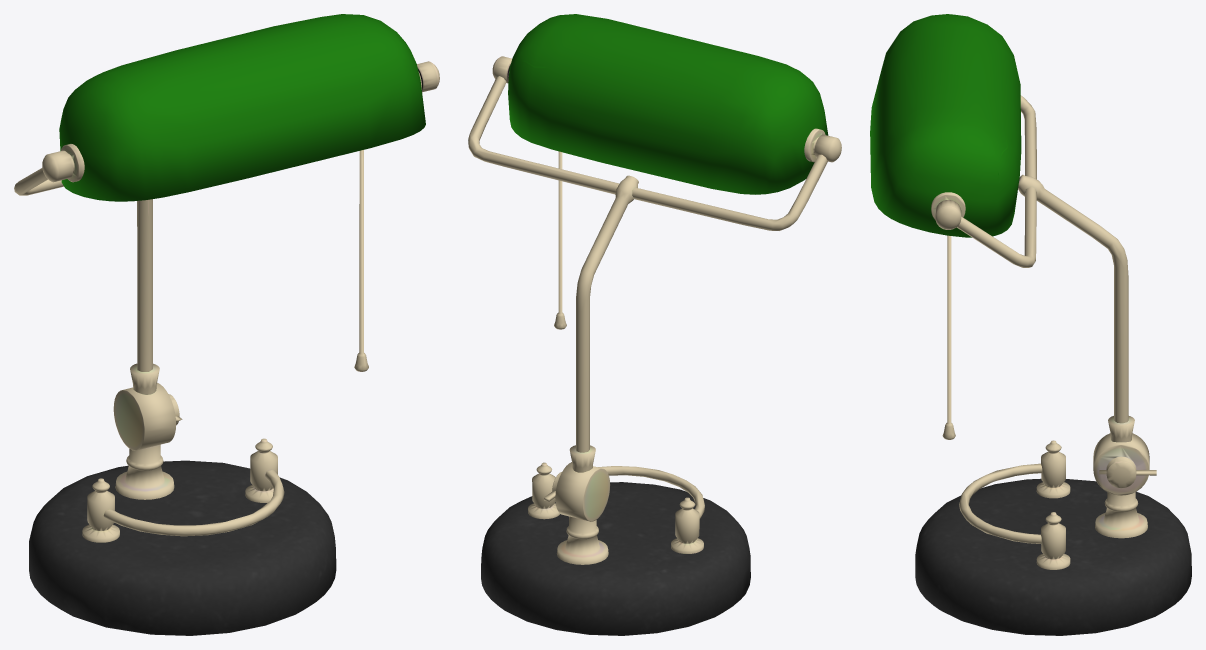
The model's file is st_bankers_lamp.gltf.
3 renders of one model, left to right at view 1: azimuth 30°, elevation 25°; view 2: azimuth 150°, elevation 25°; view 3: azimuth 270°, elevation 25°, orthographic. The views are drawn at different scales.
Parts seen in each view (by area): view 1: vintage_desk_lamp.006, vintage_desk_lamp.007, vintage_desk_lamp.011, vintage_desk_lamp.008, vintage_desk_lamp.001, vintage_desk_lamp.009, vintage_desk_lamp.010, vintage_desk_lamp.003, vintage_desk_lamp.004, vintage_desk_lamp.002, vintage_desk_lamp.012; view 2: vintage_desk_lamp.006, vintage_desk_lamp.007, vintage_desk_lamp.002, vintage_desk_lamp.001, vintage_desk_lamp.011, vintage_desk_lamp.008, vintage_desk_lamp.010, vintage_desk_lamp.003, vintage_desk_lamp.009, vintage_desk_lamp.004, vintage_desk_lamp.012; view 3: vintage_desk_lamp.007, vintage_desk_lamp.006, vintage_desk_lamp.001, vintage_desk_lamp.002, vintage_desk_lamp.011, vintage_desk_lamp.008, vintage_desk_lamp.009, vintage_desk_lamp.010, vintage_desk_lamp.004, vintage_desk_lamp.003, vintage_desk_lamp.012.
Boxes of the visible parts, bbox=[...] form: vintage_desk_lamp.006: bbox=[59, 14, 425, 201]; vintage_desk_lamp.007: bbox=[29, 460, 336, 635]; vintage_desk_lamp.011: bbox=[113, 382, 179, 450]; vintage_desk_lamp.008: bbox=[82, 438, 277, 542]; vintage_desk_lamp.001: bbox=[137, 199, 152, 371]; vintage_desk_lamp.009: bbox=[103, 469, 284, 536]; vintage_desk_lamp.010: bbox=[115, 444, 174, 499]; vintage_desk_lamp.003: bbox=[42, 61, 439, 182]; vintage_desk_lamp.004: bbox=[354, 150, 368, 371]; vintage_desk_lamp.002: bbox=[14, 168, 63, 195]; vintage_desk_lamp.012: bbox=[130, 363, 159, 394]; vintage_desk_lamp.006: bbox=[508, 14, 828, 194]; vintage_desk_lamp.007: bbox=[481, 482, 750, 635]; vintage_desk_lamp.002: bbox=[468, 76, 827, 230]; vintage_desk_lamp.001: bbox=[576, 175, 638, 452]; vintage_desk_lamp.011: bbox=[552, 462, 610, 521]; vintage_desk_lamp.008: bbox=[528, 462, 703, 553]; vintage_desk_lamp.010: bbox=[557, 516, 608, 564]; vintage_desk_lamp.003: bbox=[492, 56, 841, 162]; vintage_desk_lamp.009: bbox=[598, 466, 704, 518]; vintage_desk_lamp.004: bbox=[554, 151, 566, 329]; vintage_desk_lamp.012: bbox=[569, 445, 595, 472]; vintage_desk_lamp.007: bbox=[915, 478, 1191, 635]; vintage_desk_lamp.006: bbox=[870, 14, 1021, 237]; vintage_desk_lamp.001: bbox=[1018, 174, 1128, 423]; vintage_desk_lamp.002: bbox=[956, 95, 1036, 267]; vintage_desk_lamp.011: bbox=[1093, 433, 1149, 495]; vintage_desk_lamp.008: bbox=[1036, 440, 1070, 569]; vintage_desk_lamp.009: bbox=[959, 463, 1042, 543]; vintage_desk_lamp.010: bbox=[1095, 492, 1147, 538]; vintage_desk_lamp.004: bbox=[942, 235, 955, 439]; vintage_desk_lamp.003: bbox=[931, 192, 965, 229]; vintage_desk_lamp.012: bbox=[1108, 416, 1134, 442].
Bounding box in the file's own units: 0.3065 × 0.4252 × 0.2416.
Materials: 1 (1 with a texture image).
